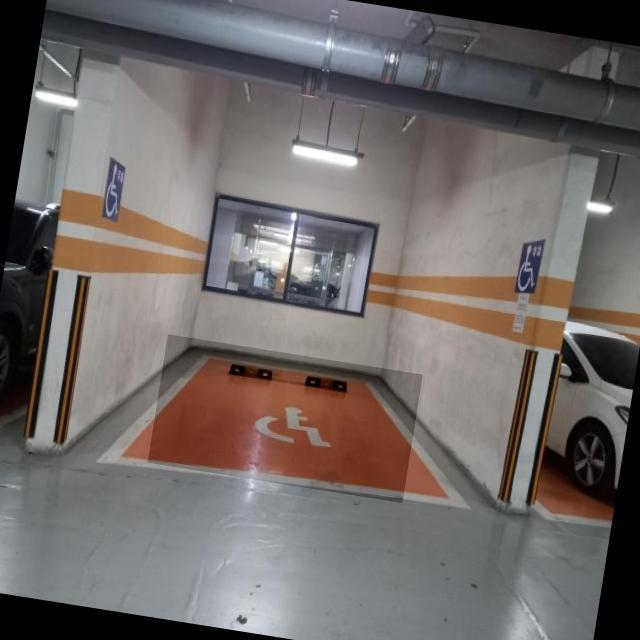empty: (148, 334, 422, 503)
